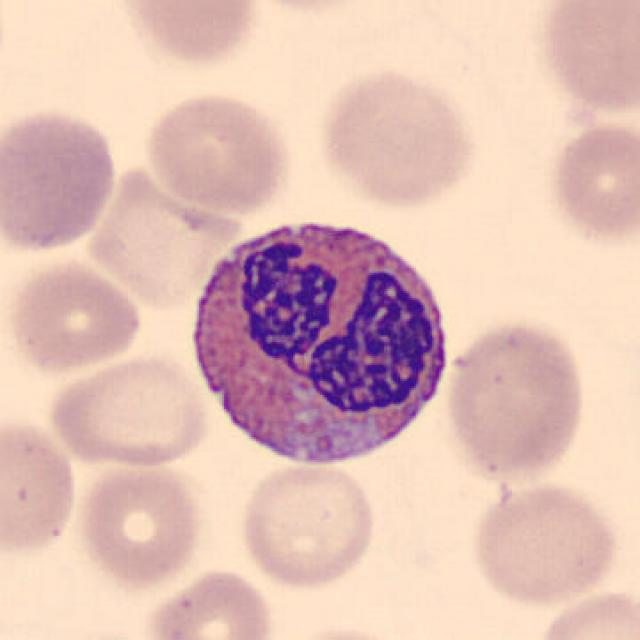Eosinophil: (180, 199, 460, 483)
RBC: (441, 317, 590, 485), (314, 65, 482, 212), (45, 349, 212, 471), (466, 478, 620, 608), (140, 88, 294, 217), (94, 168, 238, 304), (0, 102, 123, 258), (236, 460, 378, 591), (75, 455, 208, 591), (4, 254, 146, 377), (533, 0, 640, 120), (544, 116, 638, 248), (0, 411, 80, 559), (112, 0, 263, 69), (144, 564, 277, 640), (531, 583, 638, 640), (224, 0, 389, 14), (281, 624, 418, 640)
